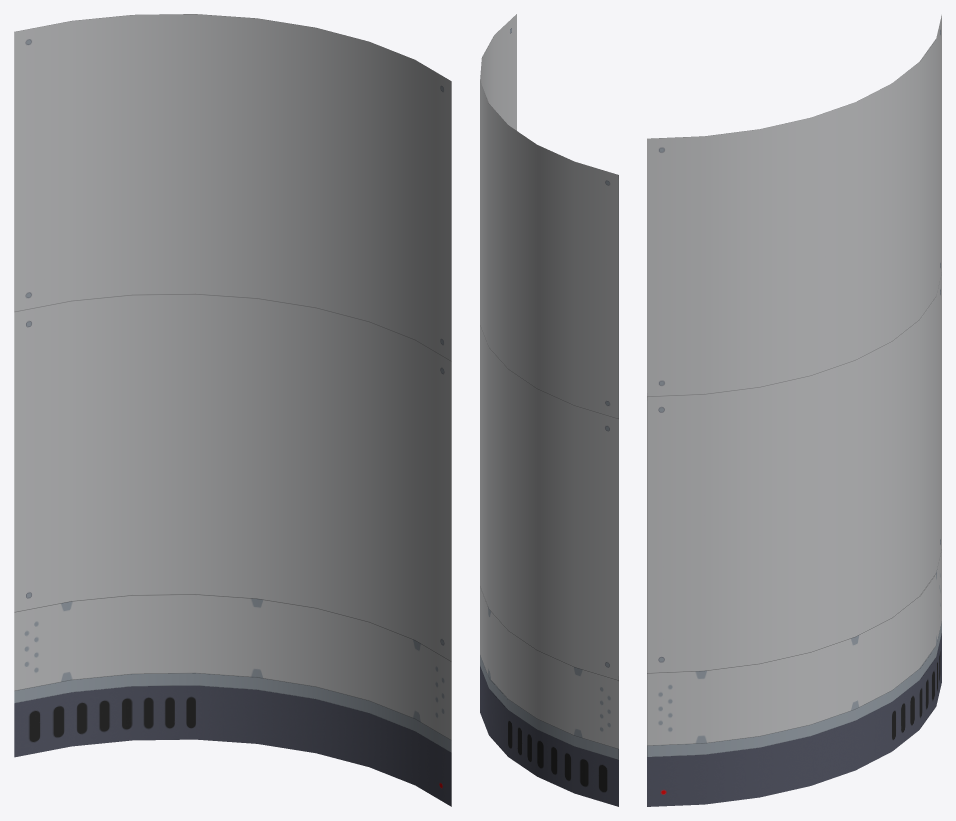
The model's file is Wall_Coin_Simple_02_B_LP.FBX.
The picture shows the model from 3 angles, left to right: view 1: azimuth 30°, elevation 25°; view 2: azimuth 150°, elevation 25°; view 3: azimuth 270°, elevation 25°; orthographic projection. The views are drawn at different scales.
Parts seen in each view (by area): view 1: Wall_Coin_Simple_02_B_LP; view 2: Wall_Coin_Simple_02_B_LP; view 3: Wall_Coin_Simple_02_B_LP.
Part boxes in pixels (left/top/right/bottom): Wall_Coin_Simple_02_B_LP: left=14, top=14, right=451, bottom=806; Wall_Coin_Simple_02_B_LP: left=480, top=14, right=618, bottom=806; Wall_Coin_Simple_02_B_LP: left=647, top=15, right=941, bottom=806.
Size of the model in its own units: 2 by 5 by 2.
